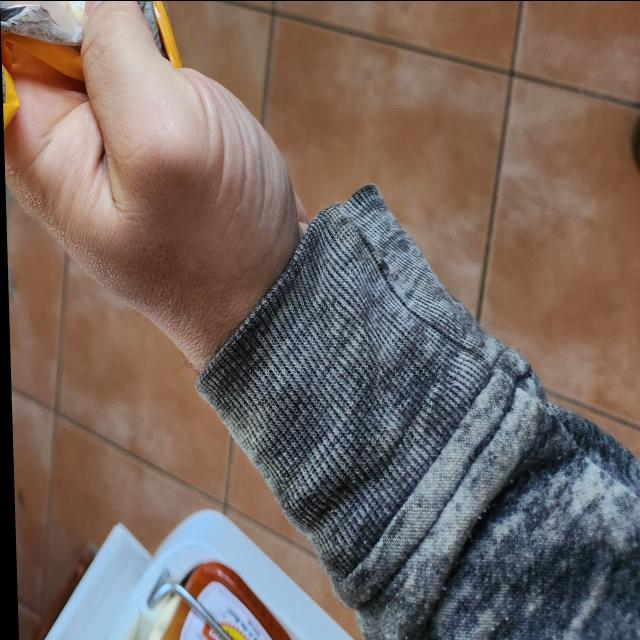cheese: (0, 0, 188, 561)
